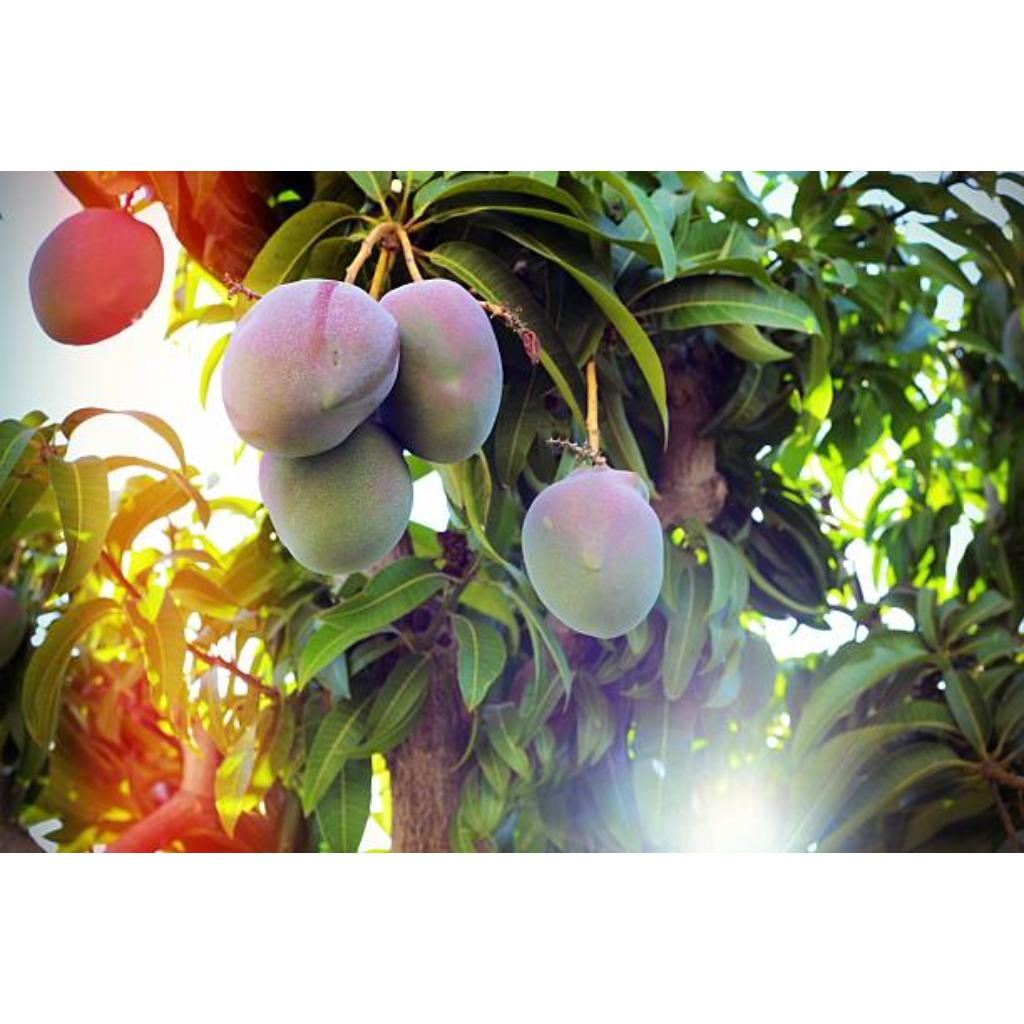mango: (222, 279, 400, 456), (522, 465, 664, 638), (260, 423, 412, 574), (382, 279, 502, 464), (30, 207, 164, 345)
